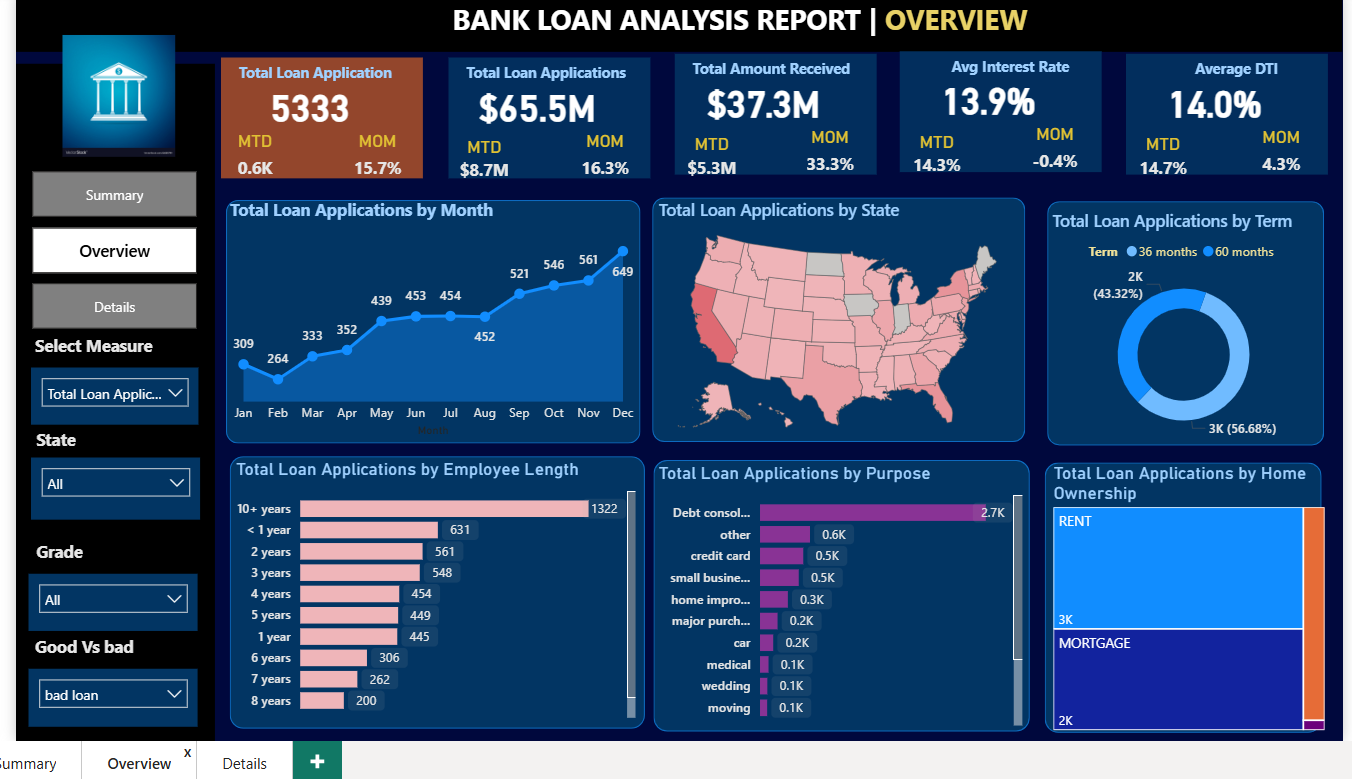

This screenshot's page, from the dashboard's own definition file:
{"tool":"powerbi","page":{"name":"Overview","canvas":[1280,720],"ordinal":1},"visuals":[{"type":"shape","box":[0,0,1280.3,54.9],"z":0},{"type":"shape","box":[852.5,54.9,194.9,116.6],"z":0,"group":"g4"},{"type":"shape","box":[634.7,56.3,194.9,116.6],"z":0,"group":"g3"},{"type":"shape","box":[1070.3,56.3,194.9,116.6],"z":0,"group":"g5"},{"type":"shape","box":[197.6,60.4,194.9,116.6],"z":0,"group":"g1"},{"type":"shape","box":[416.8,60.4,194.9,116.6],"z":0,"group":"g2"},{"type":"card","fields":{"Values":["bank_loan_data.Avg interest Rate"]},"box":[852.5,67.2,171.5,67.2],"z":1000,"group":"g4"},{"type":"card","fields":{"Values":["bank_loan_data.Total Amount Received"]},"box":[634.7,68.6,171.5,67.2],"z":1000,"group":"g3"},{"type":"card","fields":{"Values":["bank_loan_data.Avg DTI"]},"box":[1070.3,68.6,171.5,67.2],"z":1000,"group":"g5"},{"type":"card","fields":{"Values":["bank_loan_data.Total Loan Applications"]},"box":[197.6,72.7,171.5,67.2],"z":1000,"group":"g1"},{"type":"card","fields":{"Values":["bank_loan_data.Total Funded Amount"]},"box":[416.8,72.7,171.5,67.2],"z":1000,"group":"g2"},{"type":"card","fields":{"Values":["bank_loan_data.Good Loan %"]},"box":[251.1,307.4,129,67.2],"z":1000},{"type":"textbox","box":[415.8,0,616.1,49.4],"z":2000},{"type":"textbox","box":[864.9,54.9,189.4,39.8],"z":2000,"group":"g4"},{"type":"textbox","box":[647.1,56.3,189.4,39.8],"z":2000,"group":"g3"},{"type":"textbox","box":[1082.7,56.3,189.4,39.8],"z":2000,"group":"g5"},{"type":"textbox","box":[209.9,60.4,189.4,39.8],"z":2000,"group":"g1"},{"type":"textbox","box":[429.1,60.4,189.4,39.8],"z":2000,"group":"g2"},{"type":"card","title":"MTD","fields":{"Values":["bank_loan_data.MTD Loan Applications"]},"box":[197.6,130.4,65.9,57.6],"z":3000,"group":"g1"},{"type":"card","title":"MTD","fields":{"Values":["bank_loan_data.MTD Avg Interest Rate"]},"box":[847,131.7,83.7,50.8],"z":3000,"group":"g4"},{"type":"card","title":"MTD","fields":{"Values":["bank_loan_data.MTD Total Amount Received"]},"box":[629.2,133.1,83.7,50.8],"z":3000,"group":"g3"},{"type":"card","title":"MTD","fields":{"Values":["bank_loan_data.MTD Avg DTI"]},"box":[1064.8,133.1,83.7,50.8],"z":3000,"group":"g5"},{"type":"card","title":"MTD","fields":{"Values":["bank_loan_data.MTD Funded Amount"]},"box":[409.9,136.7,83.7,50.8],"z":3000,"group":"g2"},{"type":"textbox","box":[220.9,207.2,189.4,39.8],"z":3000},{"type":"group","id":"g1","title":"Group 1","box":[197.6,60.4,201.7,127.6],"z":4000},{"type":"card","title":"MOM","fields":{"Values":["bank_loan_data.MOM Avg Interest Rate"]},"box":[970.5,124.9,65.9,57.6],"z":4000,"group":"g4"},{"type":"card","title":"MOM","fields":{"Values":["bank_loan_data.MOM Total Amount Received"]},"box":[752.7,126.3,65.9,57.6],"z":4000,"group":"g3"},{"type":"card","title":"MOM","fields":{"Values":["bank_loan_data.MOM Avg DTI"]},"box":[1188.3,126.3,65.9,57.6],"z":4000,"group":"g5"},{"type":"card","title":"MOM","fields":{"Values":["bank_loan_data.MOM Loan Application"]},"box":[315.6,130.4,65.9,57.6],"z":4000,"group":"g1"},{"type":"card","title":"MOM","fields":{"Values":["bank_loan_data.MOM Total Funded Amount"]},"box":[534.8,130.4,65.9,57.6],"z":4000,"group":"g2"},{"type":"group","id":"g2","title":"Group 1","box":[409.9,60.4,208.6,127.6],"z":5000},{"type":"group","id":"g3","title":"Group 1","box":[629.2,56.3,207.2,127.6],"z":6000},{"type":"group","id":"g4","title":"Group 1","box":[847,54.9,207.2,127.6],"z":7000},{"type":"group","id":"g5","title":"Group 1","box":[1064.8,56.3,207.2,127.6],"z":8000},{"type":"shape","box":[203.1,197.6,400,235],"z":9000},{"type":"textbox","box":[216.8,473.4,120.8,24.7],"z":10000},{"type":"slicer","fields":{"Values":["bank_loan_data.address_state"]},"box":[0,444.6,190.7,57.6],"z":11000},{"type":"shape","box":[0,65.9,192.1,654.5],"z":12000},{"type":"slicer","fields":{"Values":["bank_loan_data.address_state"]},"box":[14.3,446,163.3,60.4],"z":13000},{"type":"textbox","box":[14.8,412.8,161.9,37],"z":14000},{"type":"slicer","fields":{"Values":["bank_loan_data.grade"]},"box":[12.1,558.2,163.3,54.9],"z":15000},{"type":"textbox","box":[14.8,521.2,161.9,37],"z":16000},{"type":"slicer","fields":{"Values":["bank_loan_data.good vs bad"]},"box":[12.1,650.2,163.3,56.3],"z":17000},{"type":"textbox","box":[13.4,613.1,161.9,37],"z":18000},{"type":"areaChart","fields":{"Y":["bank_loan_data.Total Loan Applications"],"Category":["Date Table.Month"]},"box":[201.7,194.9,402.9,236],"z":19000},{"type":"slicer","fields":{"Values":["Select Measure.Select Measure"]},"box":[14.8,359.2,161.9,54.9],"z":20000},{"type":"textbox","box":[13.4,322.2,161.9,37],"z":21000},{"type":"shape","box":[614.5,196,360,236],"z":22000},{"type":"shapeMap","fields":{"Value":["bank_loan_data.Total Loan Applications"],"Category":["bank_loan_data.address_state"]},"box":[614.8,194.9,355.4,237.4],"z":23000},{"type":"shape","box":[994.9,198.7,267.6,236],"z":24000},{"type":"donutChart","fields":{"Y":["bank_loan_data.Total Loan Applications"],"Category":["bank_loan_data.term"]},"box":[994.9,205.8,263.5,232.2],"z":25000},{"type":"shape","box":[205.8,445.1,400.7,262.9],"z":26000},{"type":"barChart","fields":{"Y":["bank_loan_data.Total Loan Applications"],"Category":["bank_loan_data.emp_length"]},"box":[206.9,447.3,395.5,255.2],"z":27000},{"type":"shape","box":[614.8,448.7,363.4,262.1],"z":28000},{"type":"barChart","fields":{"Y":["bank_loan_data.Total Loan Applications"],"Category":["bank_loan_data.purpose"]},"box":[614.8,451.5,360.9,259.1],"z":29000},{"type":"shape","box":[993.5,451.5,267.6,261.3],"z":30000},{"type":"treemap","fields":{"Values":["bank_loan_data.Total Loan Applications"],"Group":["bank_loan_data.home_ownership"]},"box":[996.2,451.5,271.7,263.5],"z":31000},{"type":"pageNavigator","box":[15.1,170.2,159.2,153.7],"z":32000},{"type":"image","box":[12.3,34.3,174.3,127.6],"z":33000}]}

Visuals, with their boxes on the page's 1280x720 design canvas (x1, y1, x2, y2). These are canvas units, not pixel positions in the 1352x779 screenshot, which may show the page scaled, cropped or inside an application window:
shape: (left=0, top=0, right=1280, bottom=55)
shape: (left=852, top=55, right=1047, bottom=172)
shape: (left=635, top=56, right=830, bottom=173)
shape: (left=1070, top=56, right=1265, bottom=173)
shape: (left=198, top=60, right=392, bottom=177)
shape: (left=417, top=60, right=612, bottom=177)
card - bank_loan_data.Avg interest Rate: (left=852, top=67, right=1024, bottom=134)
card - bank_loan_data.Total Amount Received: (left=635, top=69, right=806, bottom=136)
card - bank_loan_data.Avg DTI: (left=1070, top=69, right=1242, bottom=136)
card - bank_loan_data.Total Loan Applications: (left=198, top=73, right=369, bottom=140)
card - bank_loan_data.Total Funded Amount: (left=417, top=73, right=588, bottom=140)
card - bank_loan_data.Good Loan %: (left=251, top=307, right=380, bottom=375)
textbox: (left=416, top=0, right=1032, bottom=49)
textbox: (left=865, top=55, right=1054, bottom=95)
textbox: (left=647, top=56, right=836, bottom=96)
textbox: (left=1083, top=56, right=1272, bottom=96)
textbox: (left=210, top=60, right=399, bottom=100)
textbox: (left=429, top=60, right=618, bottom=100)
"MTD" card: (left=198, top=130, right=264, bottom=188)
"MTD" card: (left=847, top=132, right=931, bottom=182)
"MTD" card: (left=629, top=133, right=713, bottom=184)
"MTD" card: (left=1065, top=133, right=1148, bottom=184)
"MTD" card: (left=410, top=137, right=494, bottom=188)
textbox: (left=221, top=207, right=410, bottom=247)
"Group 1" group: (left=198, top=60, right=399, bottom=188)
"MOM" card: (left=970, top=125, right=1036, bottom=182)
"MOM" card: (left=753, top=126, right=819, bottom=184)
"MOM" card: (left=1188, top=126, right=1254, bottom=184)
"MOM" card: (left=316, top=130, right=382, bottom=188)
"MOM" card: (left=535, top=130, right=601, bottom=188)
"Group 1" group: (left=410, top=60, right=618, bottom=188)
"Group 1" group: (left=629, top=56, right=836, bottom=184)
"Group 1" group: (left=847, top=55, right=1054, bottom=182)
"Group 1" group: (left=1065, top=56, right=1272, bottom=184)
shape: (left=203, top=198, right=603, bottom=433)
textbox: (left=217, top=473, right=338, bottom=498)
slicer - bank_loan_data.address_state: (left=0, top=445, right=191, bottom=502)
shape: (left=0, top=66, right=192, bottom=720)
slicer - bank_loan_data.address_state: (left=14, top=446, right=178, bottom=506)
textbox: (left=15, top=413, right=177, bottom=450)
slicer - bank_loan_data.grade: (left=12, top=558, right=175, bottom=613)
textbox: (left=15, top=521, right=177, bottom=558)
slicer - bank_loan_data.good vs bad: (left=12, top=650, right=175, bottom=706)
textbox: (left=13, top=613, right=175, bottom=650)
areaChart - bank_loan_data.Total Loan Applications x Date Table.Month: (left=202, top=195, right=605, bottom=431)
slicer - Select Measure.Select Measure: (left=15, top=359, right=177, bottom=414)
textbox: (left=13, top=322, right=175, bottom=359)
shape: (left=614, top=196, right=974, bottom=432)
shapeMap - bank_loan_data.Total Loan Applications x bank_loan_data.address_state: (left=615, top=195, right=970, bottom=432)
shape: (left=995, top=199, right=1262, bottom=435)
donutChart - bank_loan_data.Total Loan Applications x bank_loan_data.term: (left=995, top=206, right=1258, bottom=438)
shape: (left=206, top=445, right=606, bottom=708)
barChart - bank_loan_data.Total Loan Applications x bank_loan_data.emp_length: (left=207, top=447, right=602, bottom=702)
shape: (left=615, top=449, right=978, bottom=711)
barChart - bank_loan_data.Total Loan Applications x bank_loan_data.purpose: (left=615, top=452, right=976, bottom=711)
shape: (left=994, top=452, right=1261, bottom=713)
treemap - bank_loan_data.Total Loan Applications x bank_loan_data.home_ownership: (left=996, top=452, right=1268, bottom=715)
pageNavigator: (left=15, top=170, right=174, bottom=324)
image: (left=12, top=34, right=187, bottom=162)
